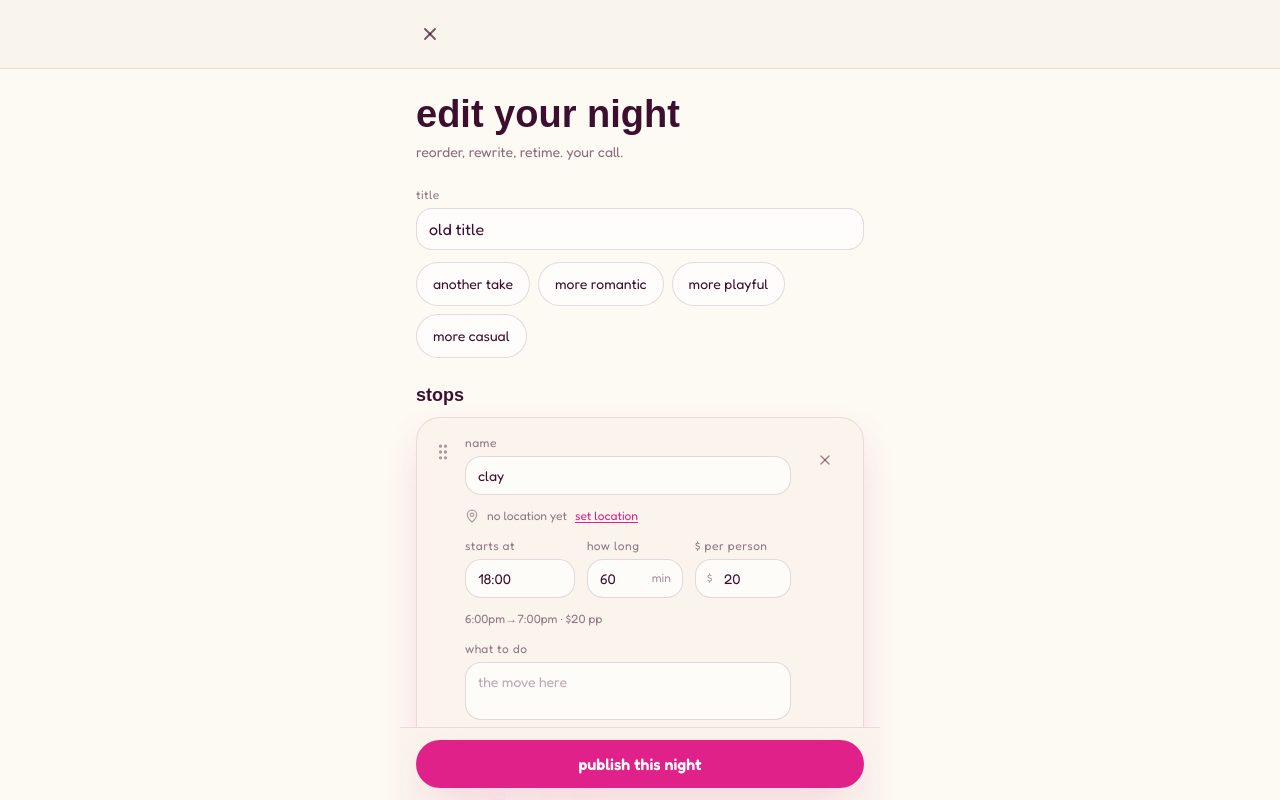
AI title takes › test 1 — chips render when a stop has a name; "another take" success → title input becomes returned title
Click the button "another take": (473, 284) [416,262,530,306]
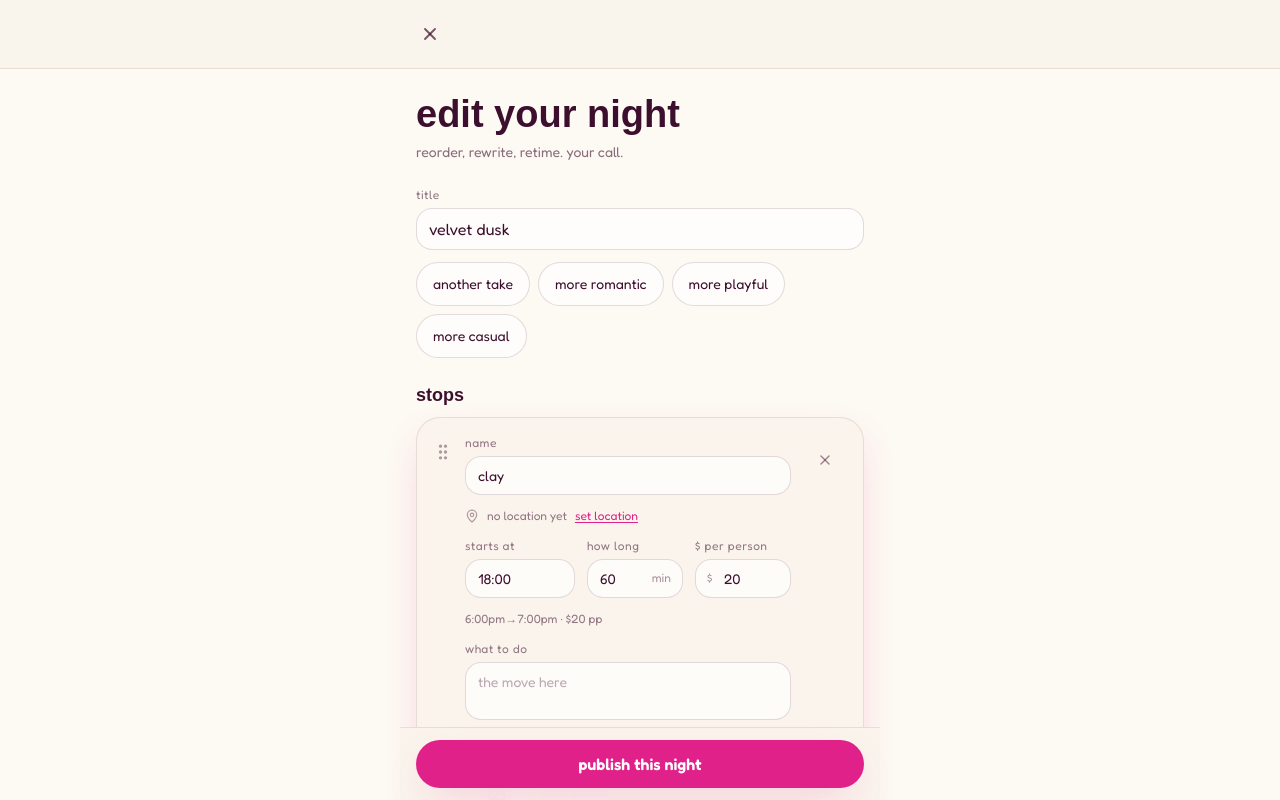
Expected: the field labelled "title" holds "velvet dusk", [416,208,864,250]
